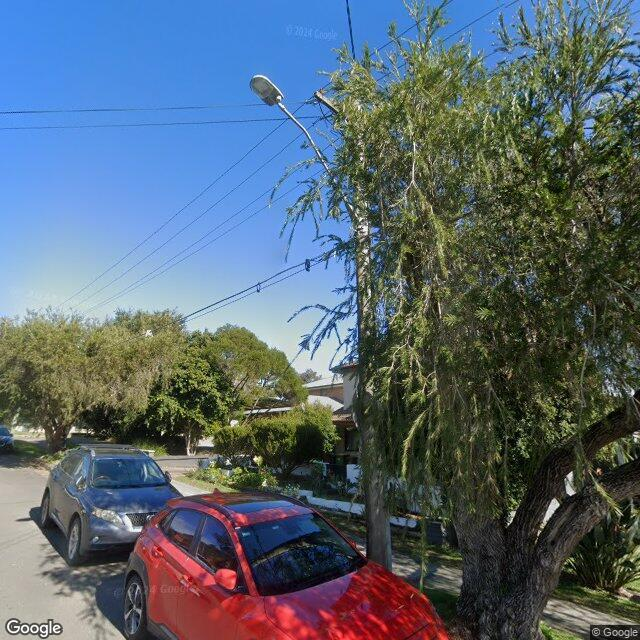crossarm: (314, 89, 342, 119)
streetlight: (250, 75, 362, 230)
timber-pole: (354, 72, 393, 569)
